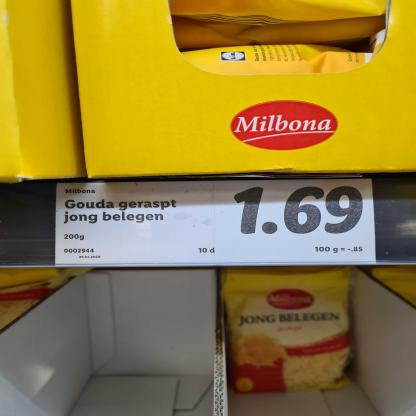prtg: (56, 179, 377, 267)
